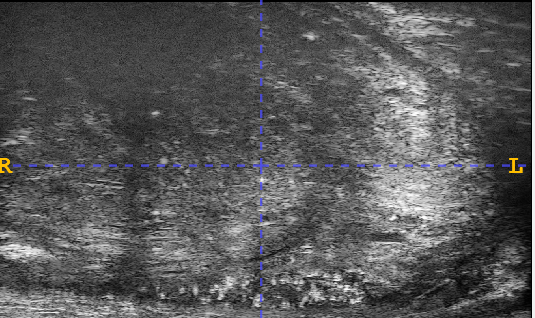calcifications: (169, 250, 388, 311), (232, 160, 327, 207)
